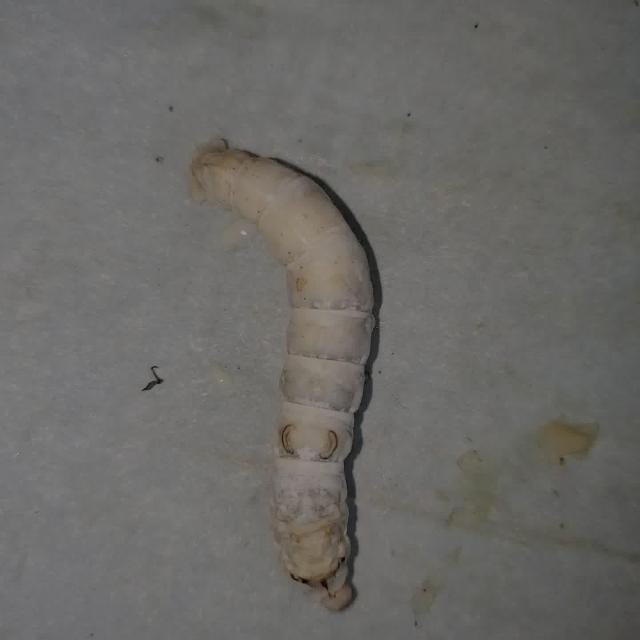Grasserie: (174, 125, 410, 616)
